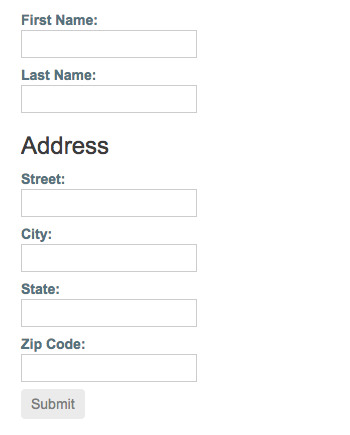button: (20, 388, 88, 420)
field: (19, 187, 198, 219), (19, 28, 198, 59), (18, 298, 197, 328), (20, 84, 198, 114), (19, 243, 197, 273), (20, 353, 198, 383)
